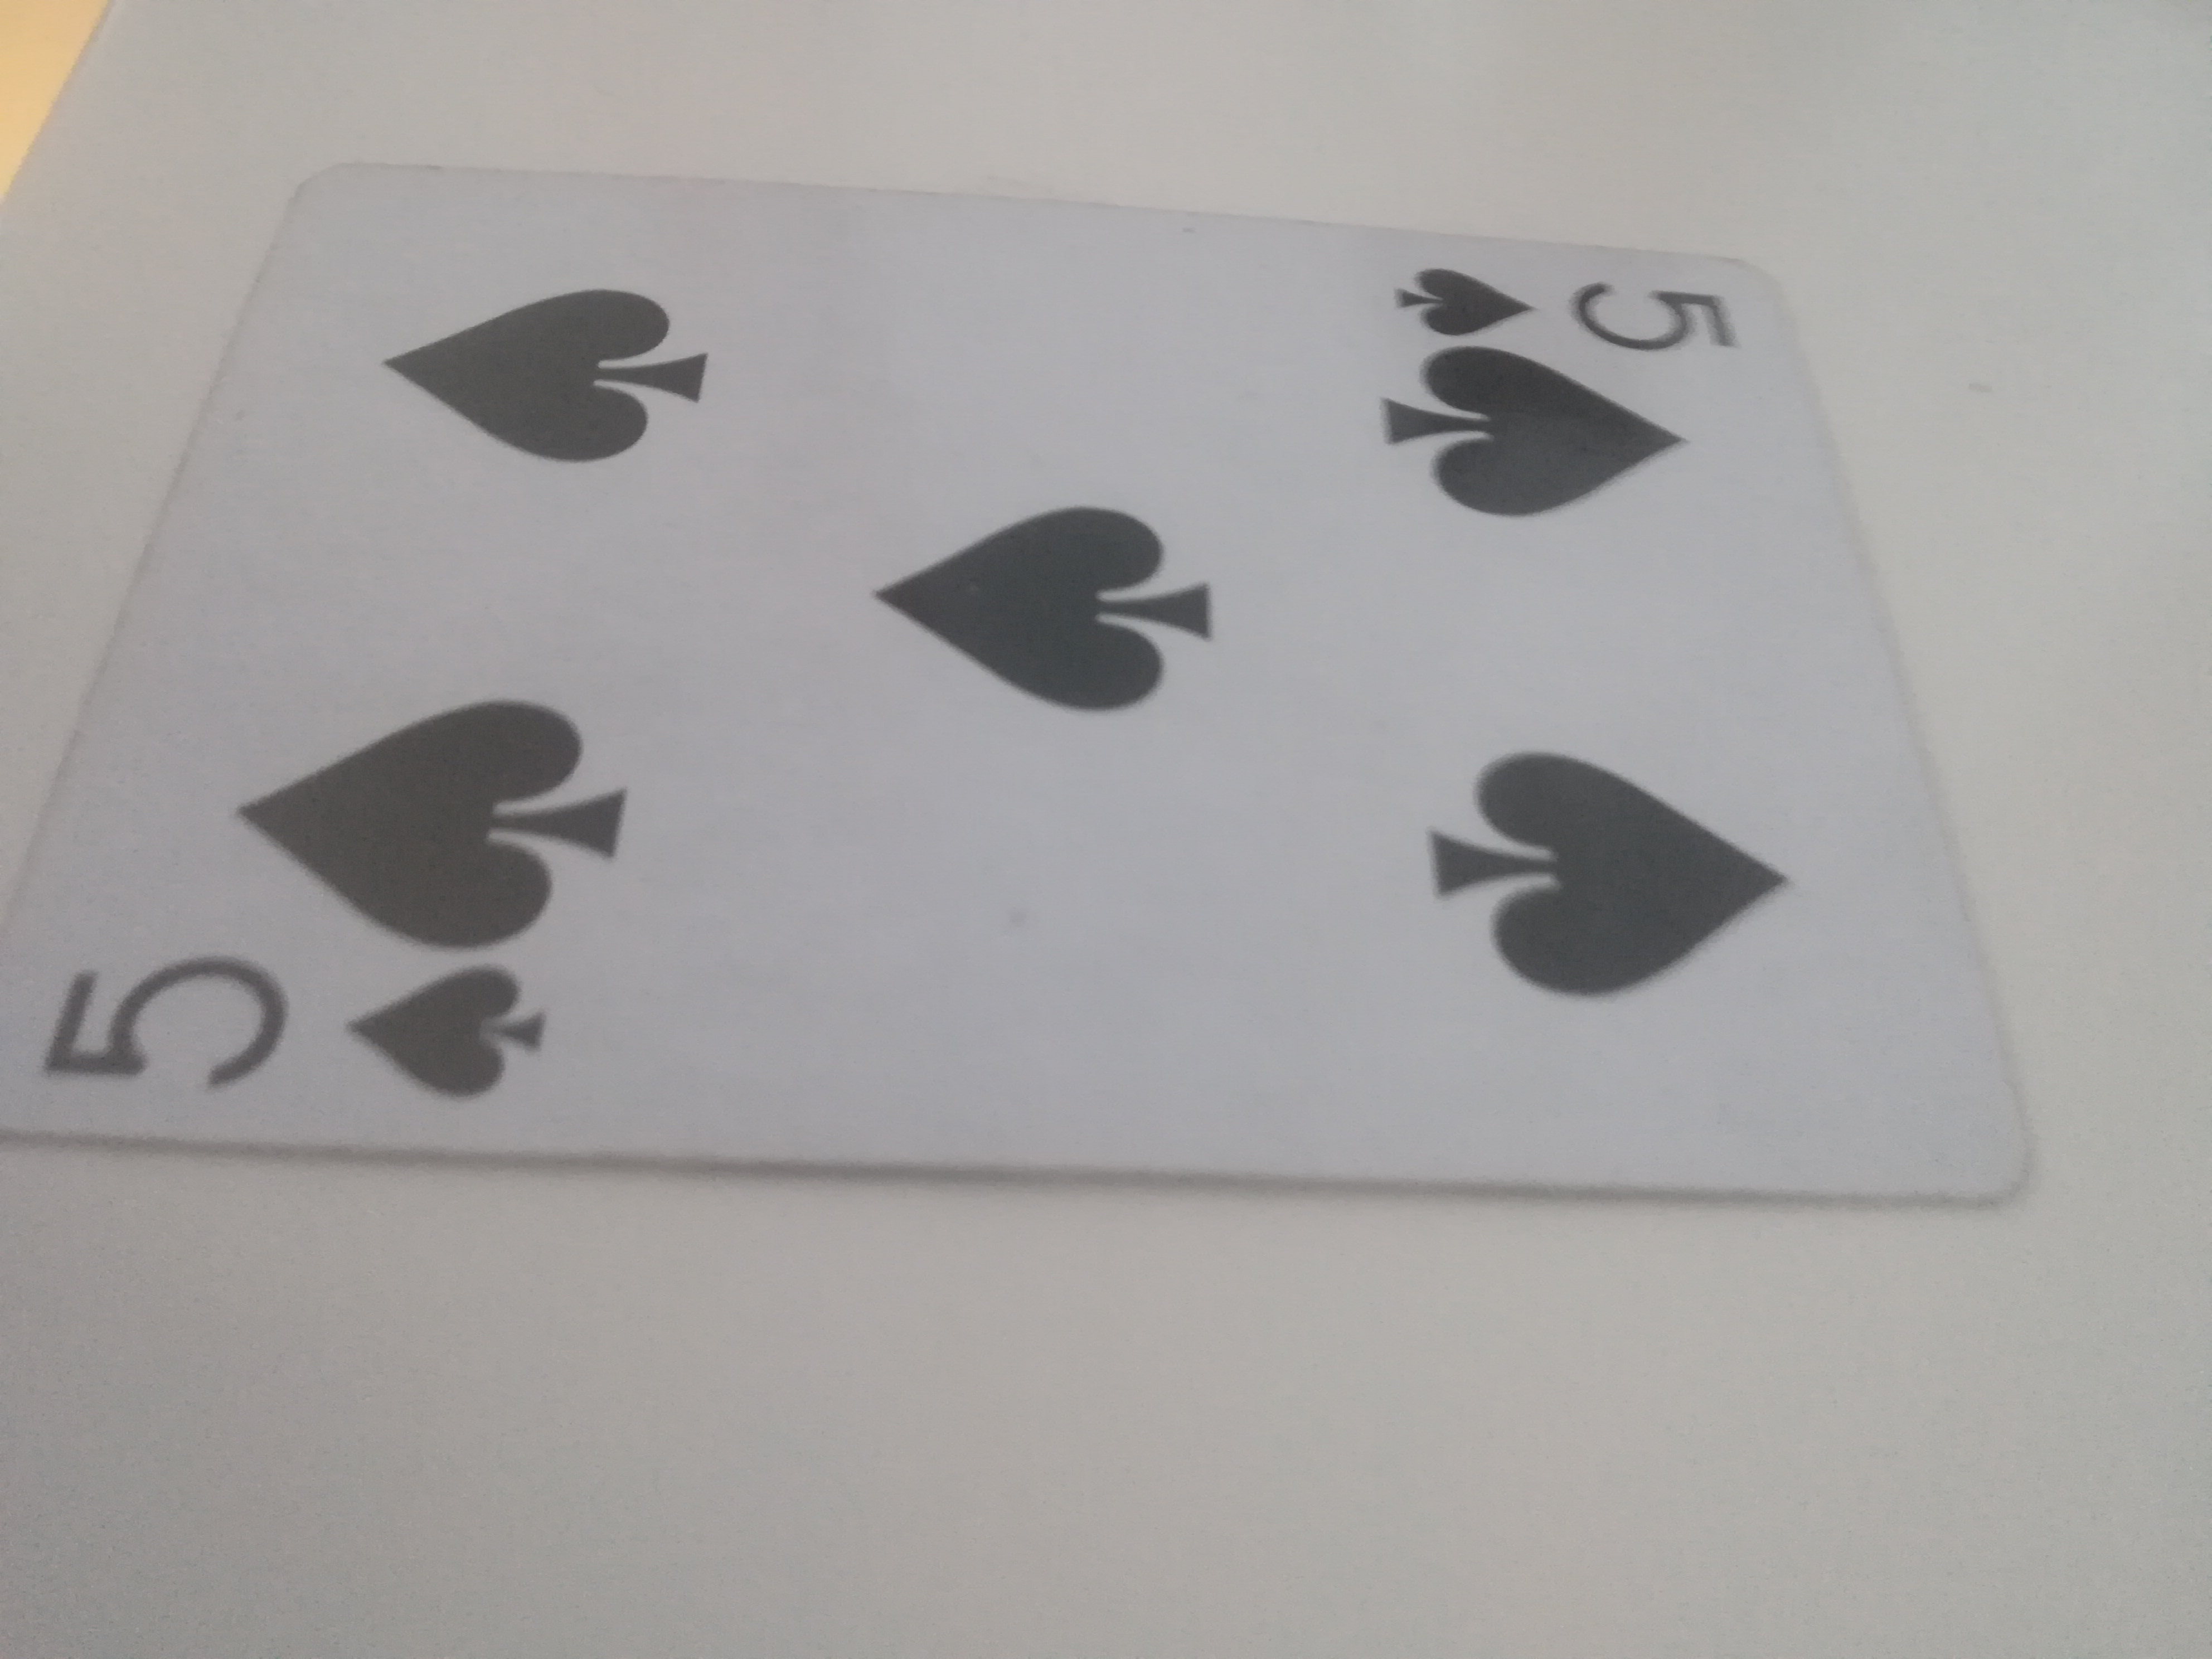5S: (0, 148, 2069, 1220)
